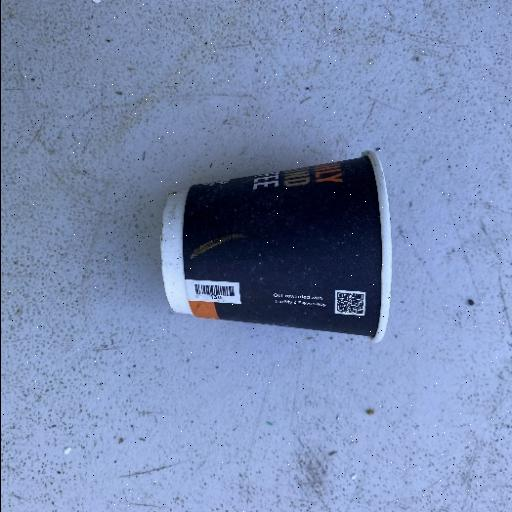Cardboard: (158, 148, 392, 344)
